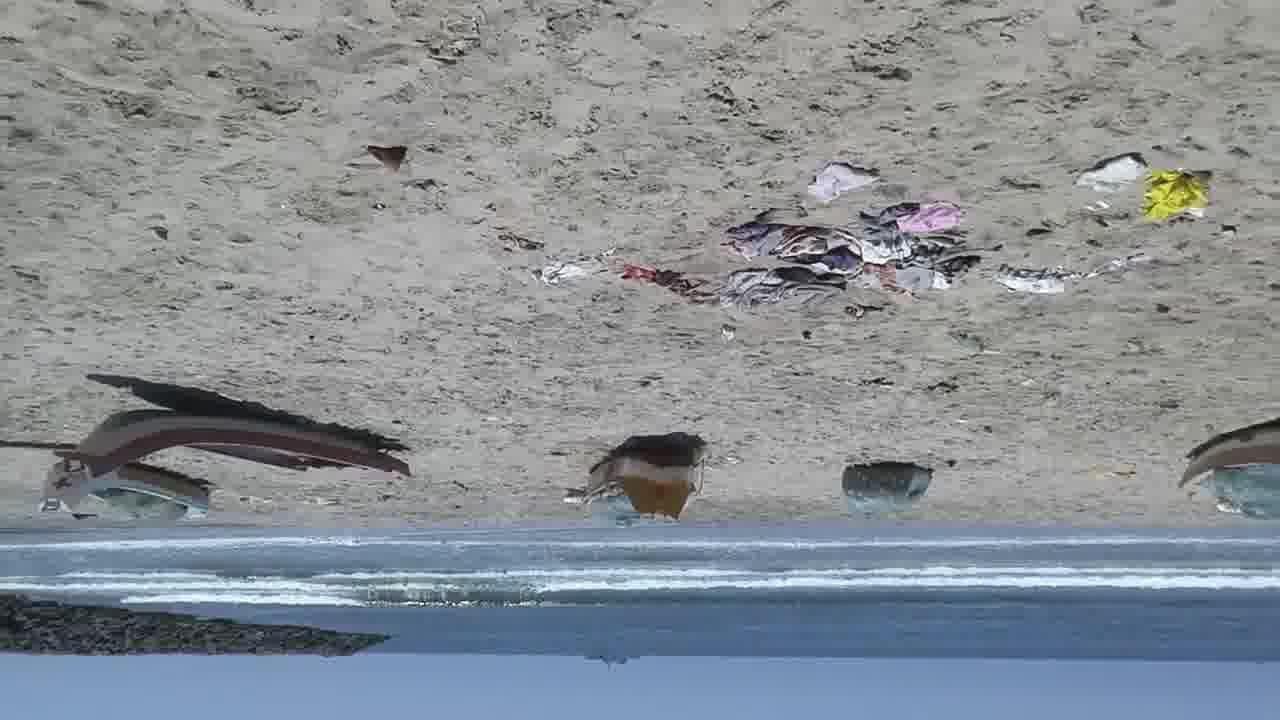large collection of objects: (62, 406, 416, 482), (577, 432, 701, 526), (39, 459, 216, 524), (1179, 415, 1279, 502)
obj: (728, 200, 974, 296), (541, 259, 835, 313), (838, 466, 934, 518), (1209, 461, 1279, 521), (802, 163, 886, 208), (1148, 168, 1210, 221), (1077, 154, 1149, 192), (998, 264, 1068, 294), (366, 144, 408, 175)
sand/background: (1, 518, 1279, 719)
